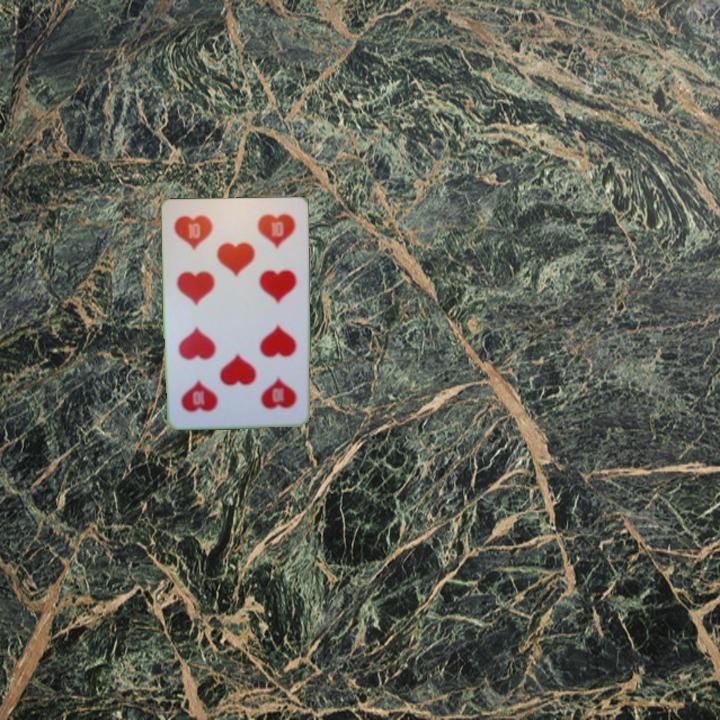h_10.png: (234, 360, 302, 419), (170, 207, 238, 266)
